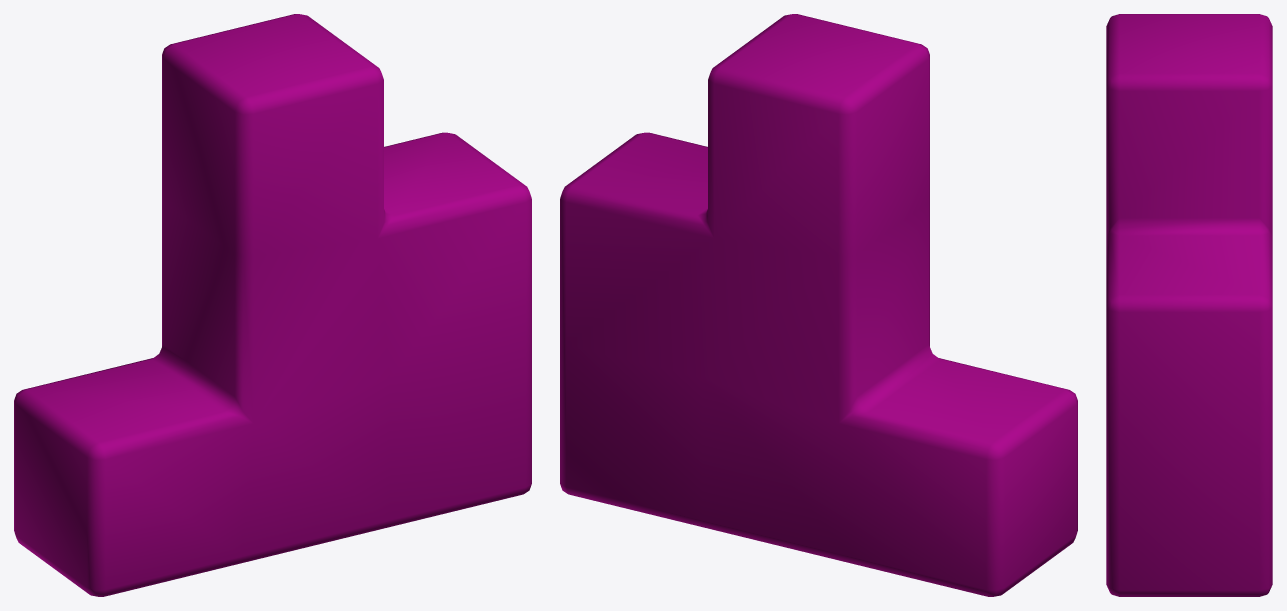
File: blob.glb
3 views of the same model, side by side, from view 1: azimuth 30°, elevation 25°; view 2: azimuth 150°, elevation 25°; view 3: azimuth 270°, elevation 25° (orthographic). The views are drawn at different scales.
Parts seen in each view (by area): view 1: plus; view 2: plus; view 3: plus.
Part boxes in pixels (x1,y1,x2,y2): plus: (14, 14, 531, 596); plus: (560, 14, 1077, 596); plus: (1106, 14, 1272, 596).
Bounding box in the file's own units: 6 × 6 × 2.
